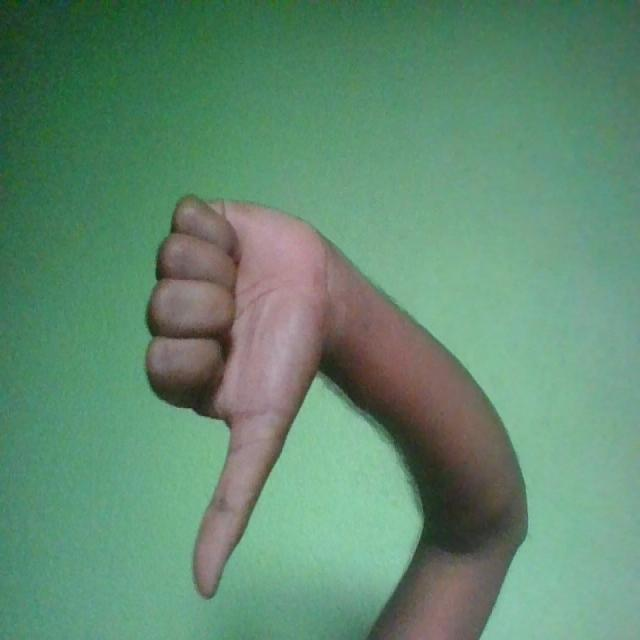Dislike: (147, 193, 333, 604)
